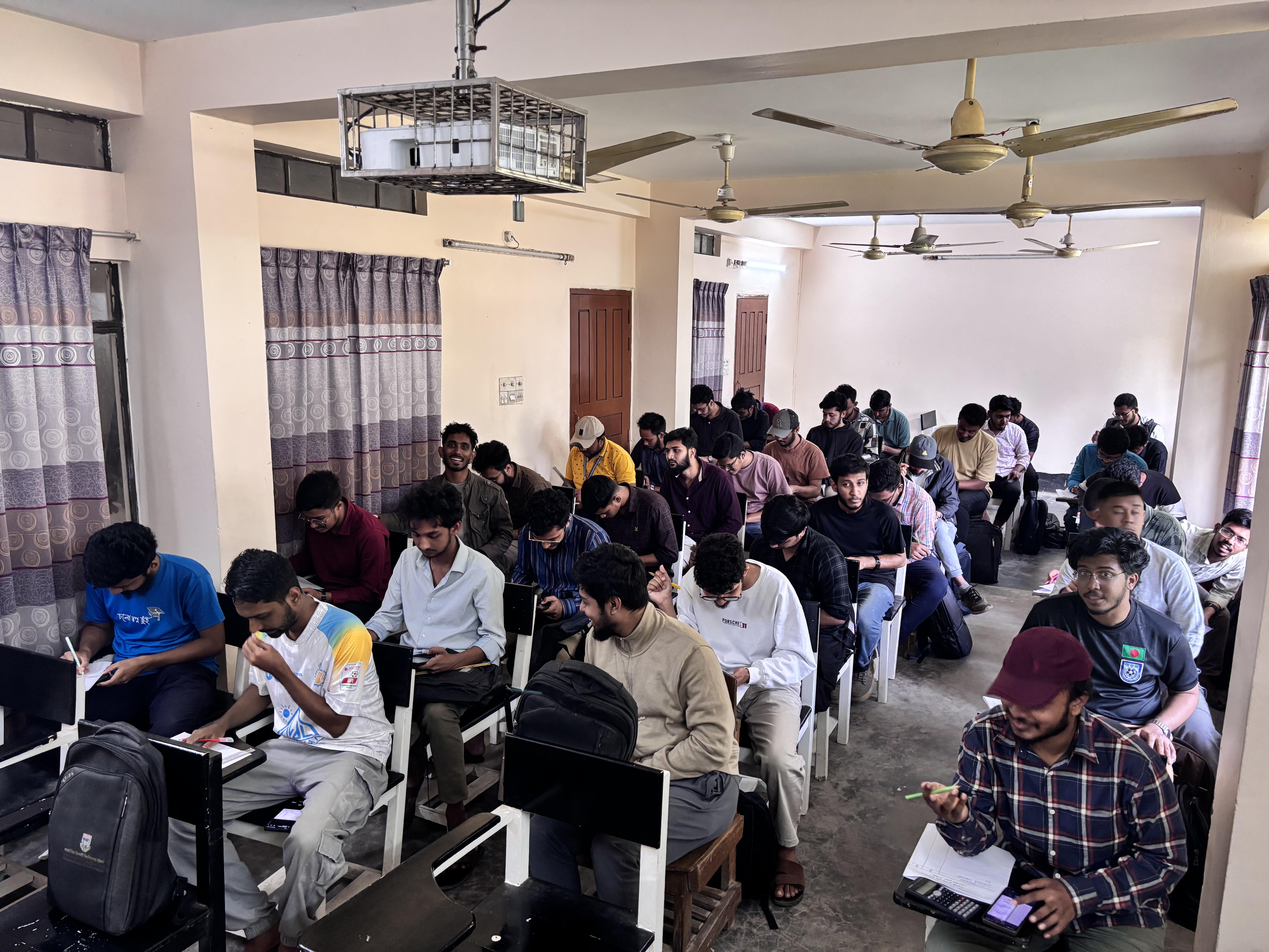hidden_communication: (1190, 501, 1252, 596)
no_cheating: (188, 550, 367, 813), (1040, 526, 1179, 743), (61, 521, 191, 727), (380, 488, 495, 699), (751, 484, 843, 622), (282, 468, 368, 593), (714, 418, 795, 521), (649, 428, 722, 533), (572, 473, 664, 553), (905, 429, 968, 531), (551, 412, 621, 502), (431, 414, 487, 499), (1094, 472, 1151, 549), (1076, 424, 1144, 486), (866, 451, 915, 537), (805, 389, 851, 466), (953, 400, 995, 483), (681, 383, 731, 443), (1104, 392, 1156, 441), (632, 410, 670, 466), (729, 383, 763, 438)
side_talking: (541, 546, 706, 803), (825, 454, 892, 556)
suspicious_moving: (982, 392, 1023, 469)
using_phone: (909, 624, 1124, 952), (655, 533, 786, 703), (507, 484, 585, 622)
